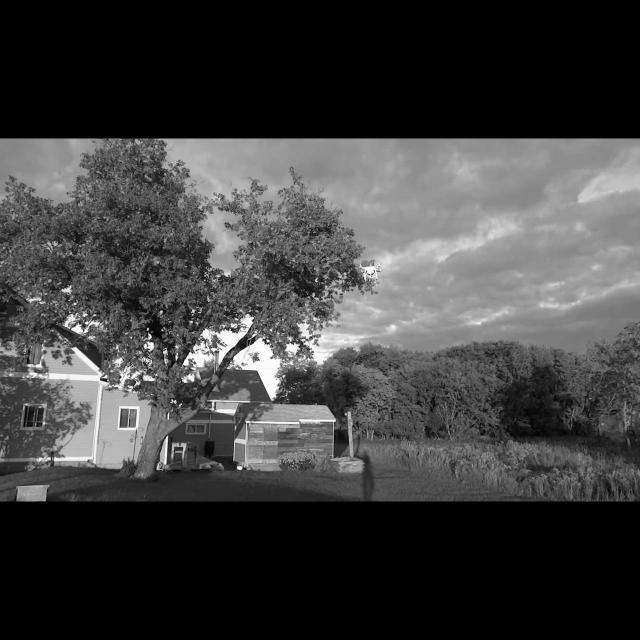Drons: (351, 256, 384, 284)
